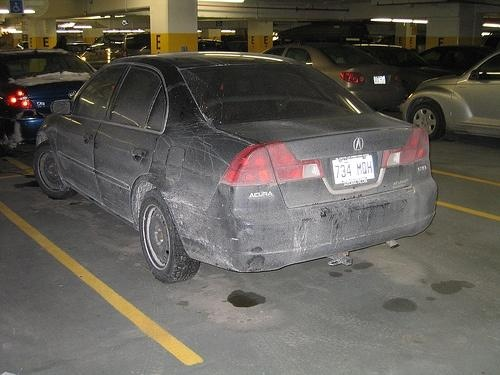car: (40, 49, 438, 284), (1, 44, 101, 151), (262, 39, 411, 101), (404, 51, 500, 144)
